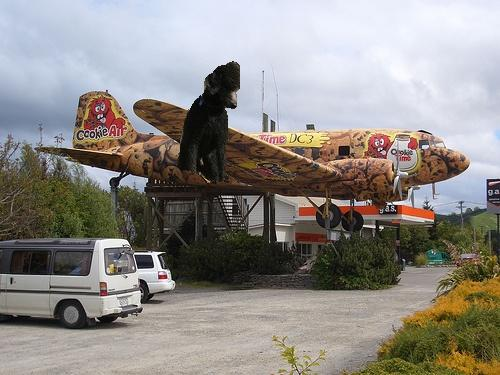tampered: (177, 62, 240, 183)
